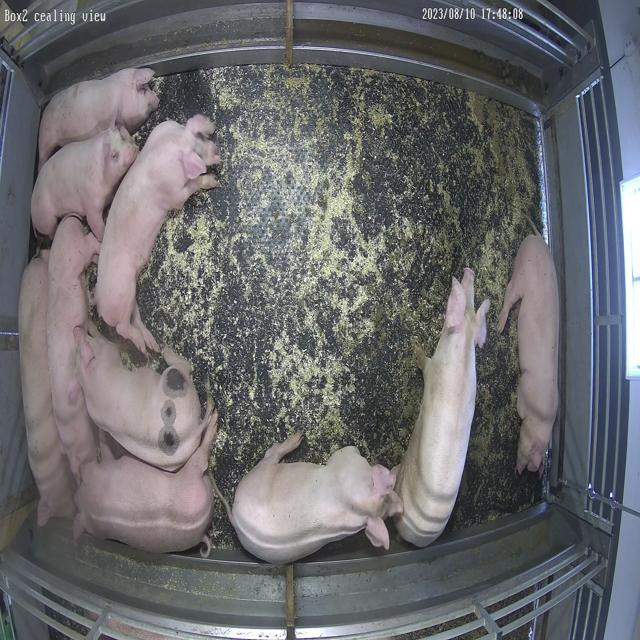Dirt: (342, 68, 543, 286), (448, 300, 543, 531), (350, 303, 424, 468)
Pig: (95, 114, 221, 354), (396, 268, 491, 548), (231, 434, 401, 564), (73, 411, 217, 554), (79, 323, 208, 472), (499, 230, 560, 475), (31, 128, 138, 240), (38, 67, 159, 166)
